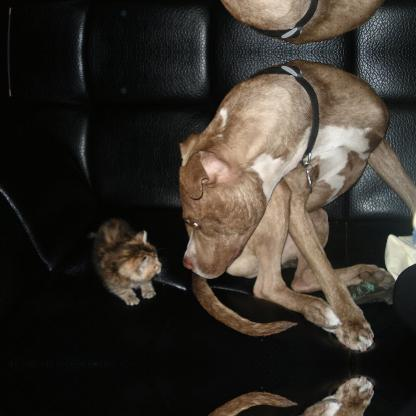Cat: (95, 211, 167, 307)
